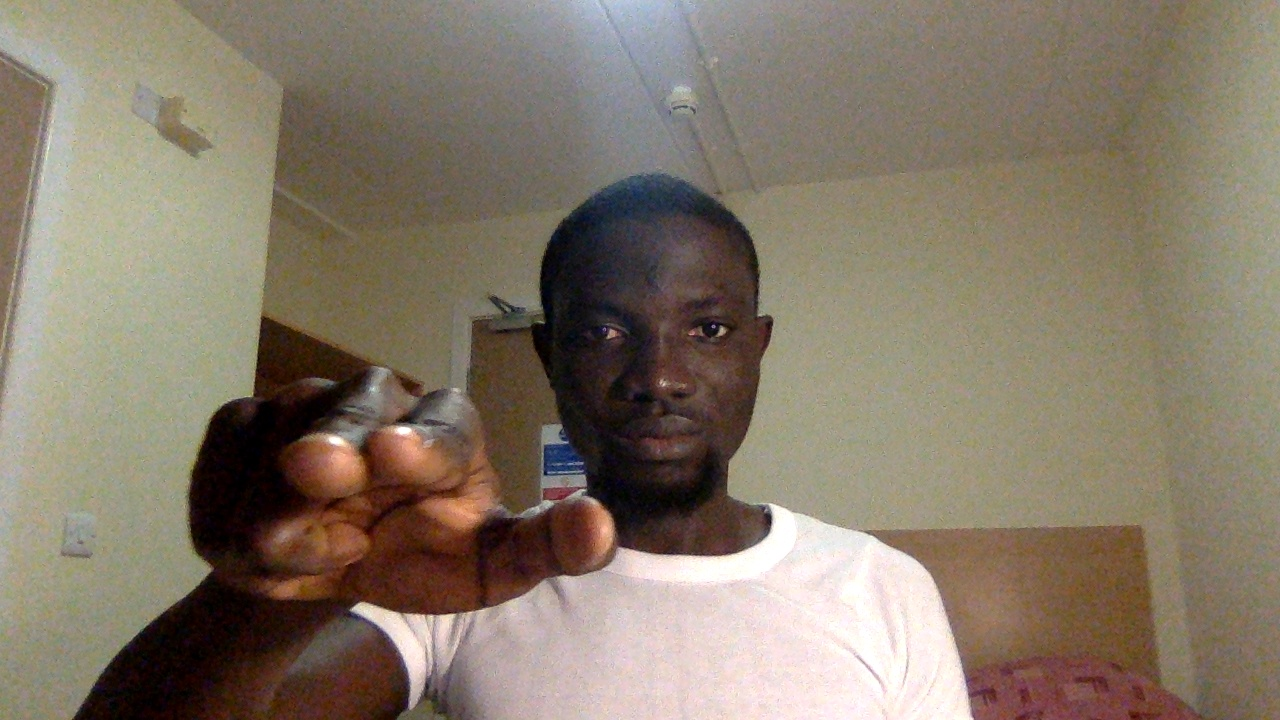No: (169, 359, 632, 621)
